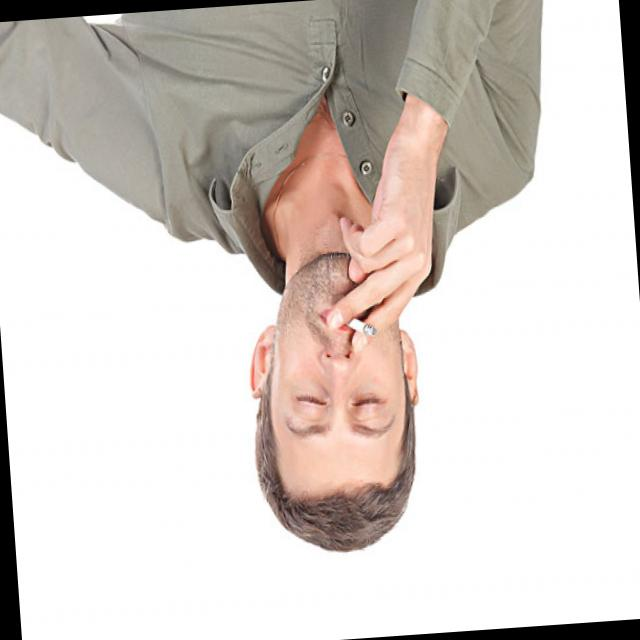smoke: (338, 306, 384, 342)
